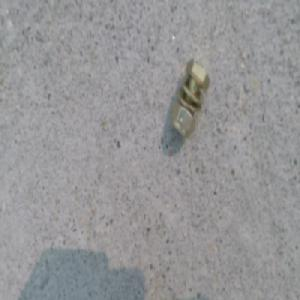BoltNutSet: (173, 50, 213, 129)
